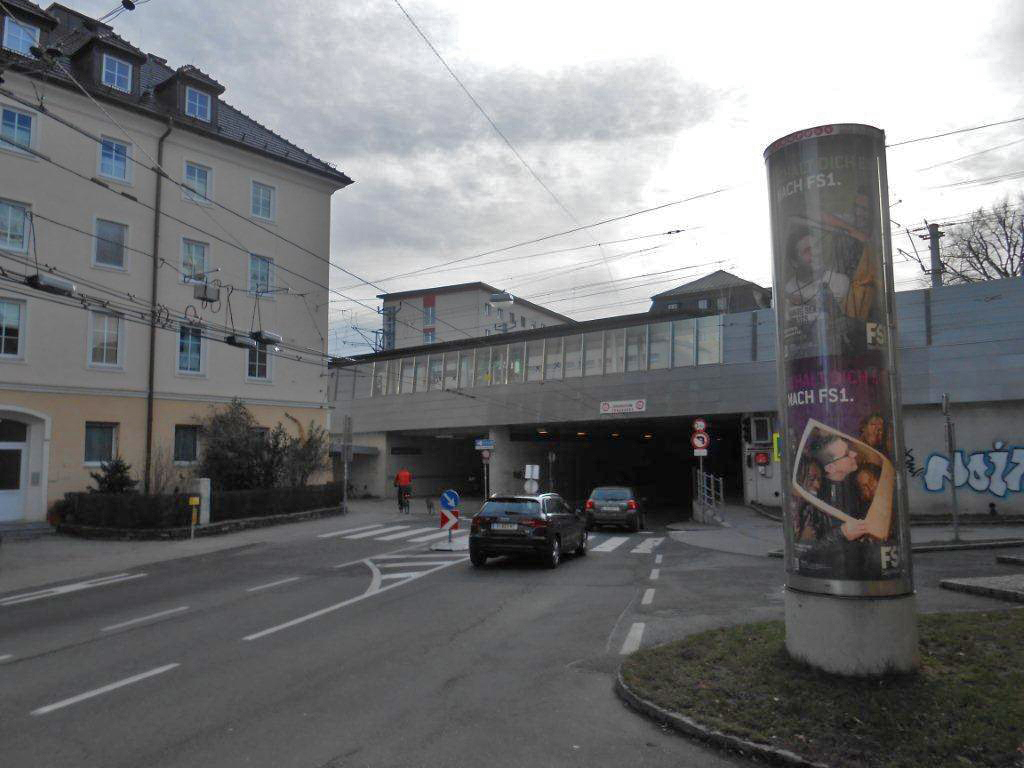car: (451, 476, 596, 591), (575, 469, 663, 536)
